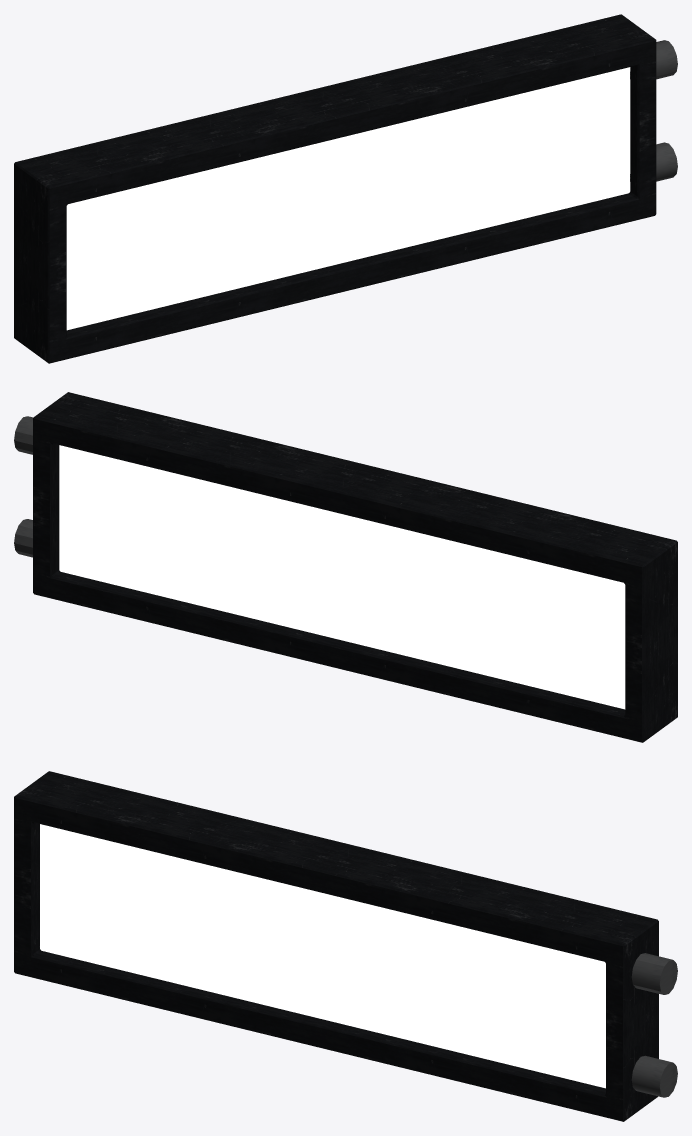
The model's file is SignBoards_3.fbx.
3 renders of one model, top to bottom at view 1: azimuth 30°, elevation 25°; view 2: azimuth 150°, elevation 25°; view 3: azimuth 330°, elevation 25°, orthographic.
Visible parts, largest first — view 1: SignBoards_3; view 2: SignBoards_3; view 3: SignBoards_3.
Part boxes in pixels (box(x1,y1,x2,y2)): SignBoards_3: box(14, 14, 677, 363); SignBoards_3: box(14, 392, 677, 742); SignBoards_3: box(14, 771, 677, 1121).
Size of the model in its own units: 0.9037 by 0.24 by 0.0864.
